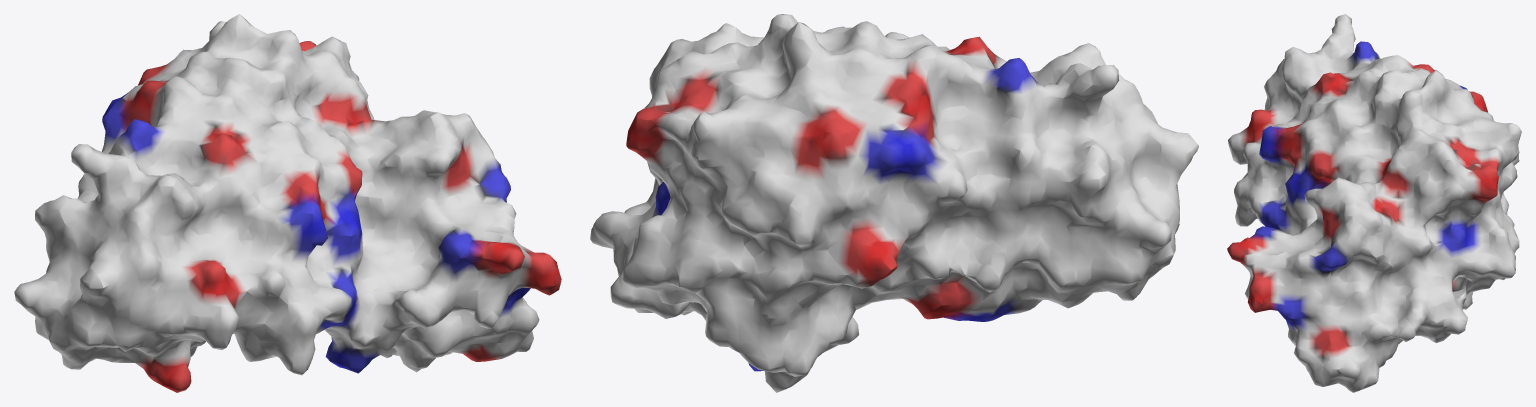
File: 1OHZ_A-Z_1.0.fbx
The picture shows the model from 3 angles, left to right: view 1: azimuth 30°, elevation 25°; view 2: azimuth 150°, elevation 25°; view 3: azimuth 270°, elevation 25°; orthographic projection. The views are drawn at different scales.
Visible parts, largest first — view 1: Cube; view 2: Cube; view 3: Cube.
Part boxes in pixels (bbox=[...]): Cube: bbox=[14, 14, 561, 392]; Cube: bbox=[590, 14, 1198, 392]; Cube: bbox=[1227, 14, 1521, 392].
Size of the model in its own units: 5723 by 3673 by 3912.
